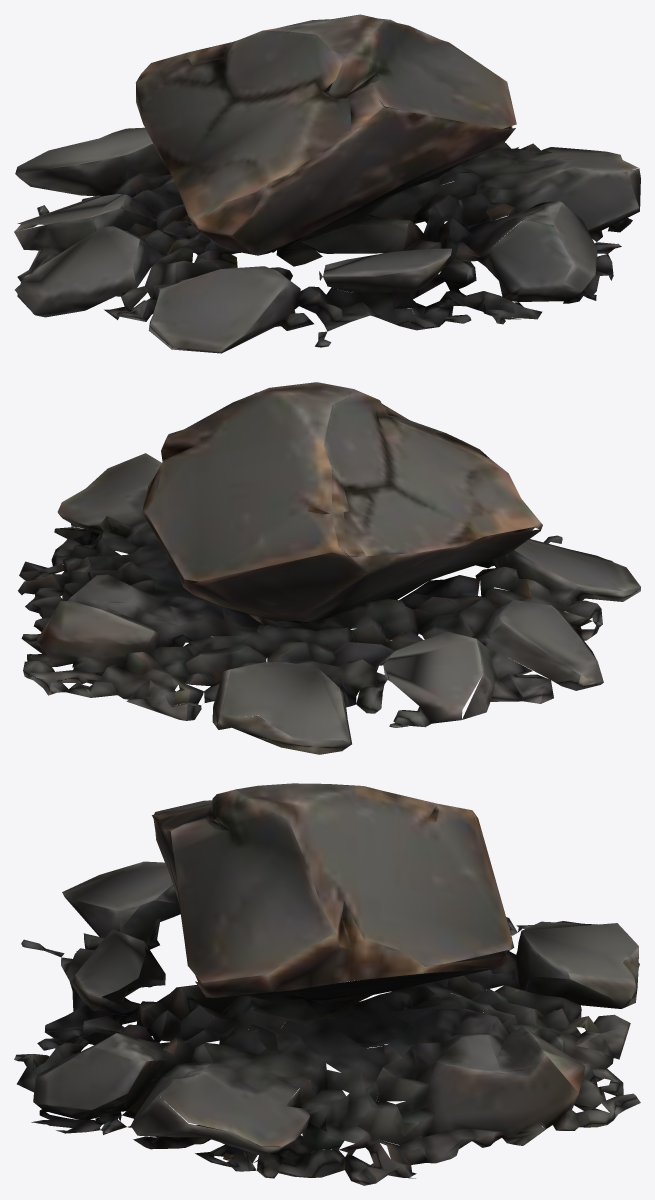
The model's file is roca3.movil.glb.
3 renders of one model, top to bottom at view 1: azimuth 30°, elevation 25°; view 2: azimuth 150°, elevation 25°; view 3: azimuth 270°, elevation 25°, orthographic. The views are drawn at different scales.
Parts seen in each view (by area): view 1: geometry_0; view 2: geometry_0; view 3: geometry_0.
Boxes of the visible parts, <box> form: geometry_0: <box>14,14,640,353</box>; geometry_0: <box>18,382,640,754</box>; geometry_0: <box>14,783,640,1185</box>.
Size of the model in its own units: 1.2 by 0.4474 by 0.9988.
1 material, 1 textured.
